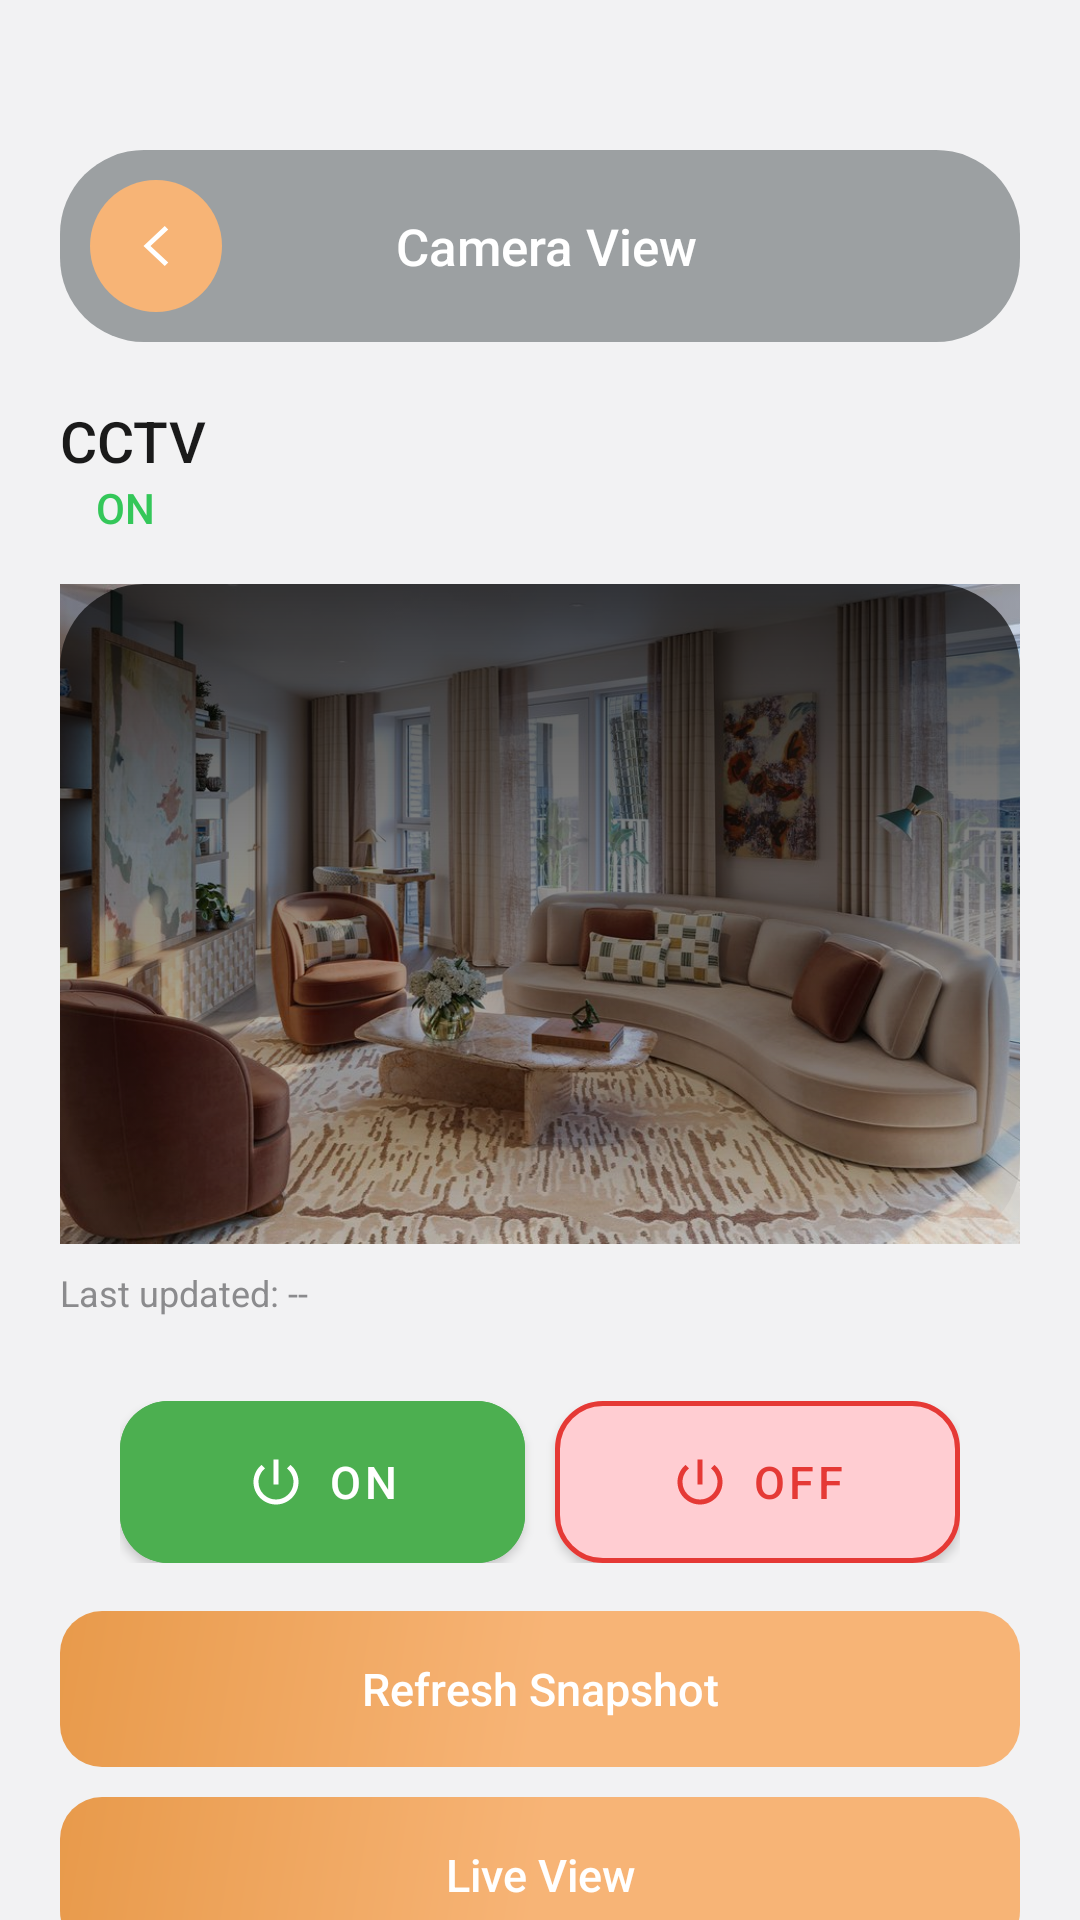

Screen size 1080*1920. Icon name, then its box in pixels as (x1, y1, x2, y2):
back: (144, 226, 168, 266)
